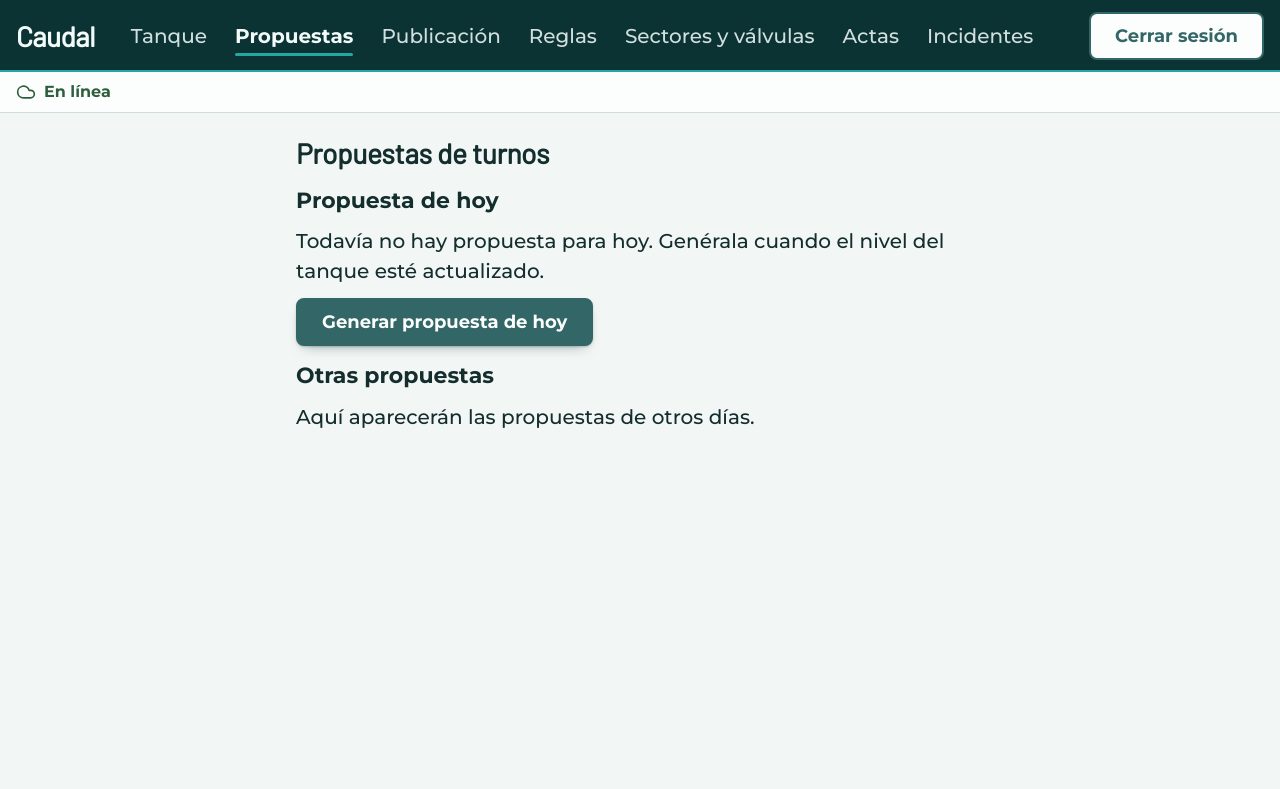
Scenario: proposal decision flow (F057) › rejects a proposal with a reason, and the day can be generated again
Click the button "Generar propuesta de hoy". click: (445, 322)
box: [296,298,593,346]
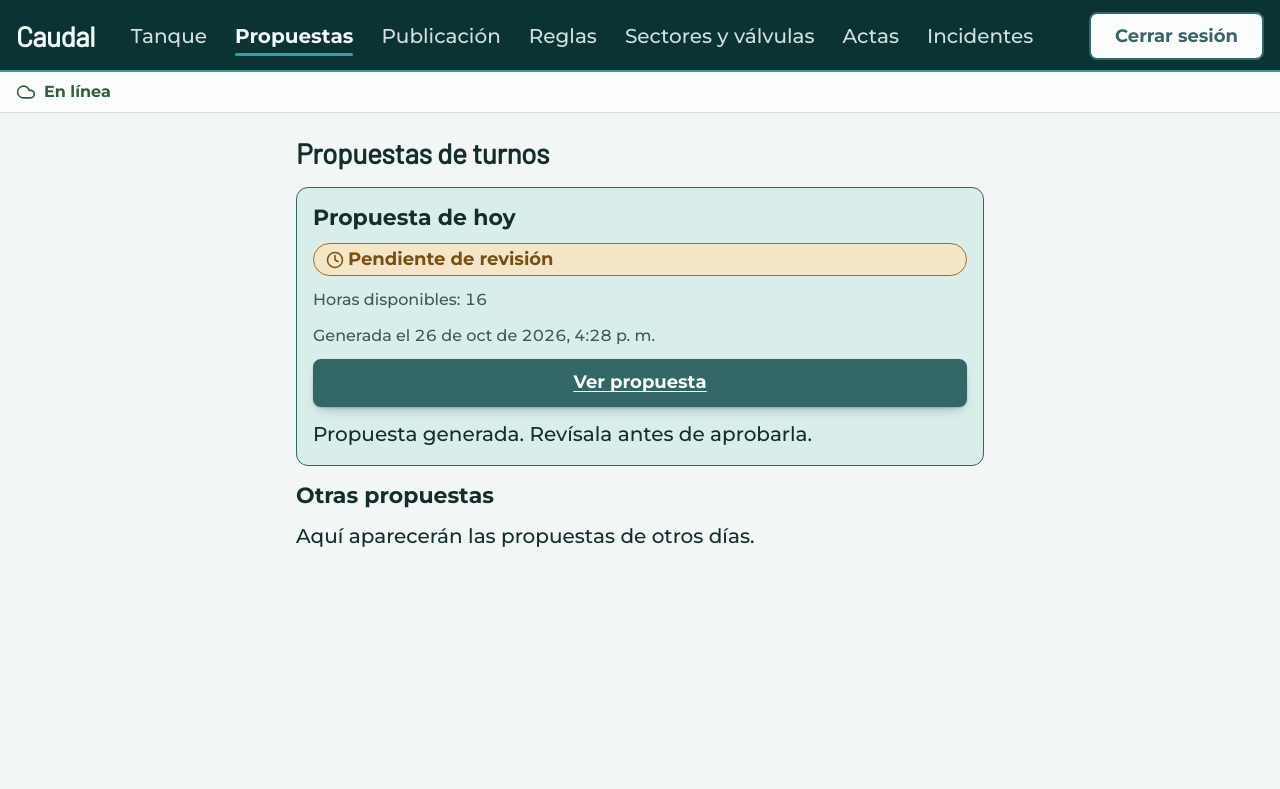
Click the link "Ver propuesta". click: (640, 383)
box: [313,359,967,407]
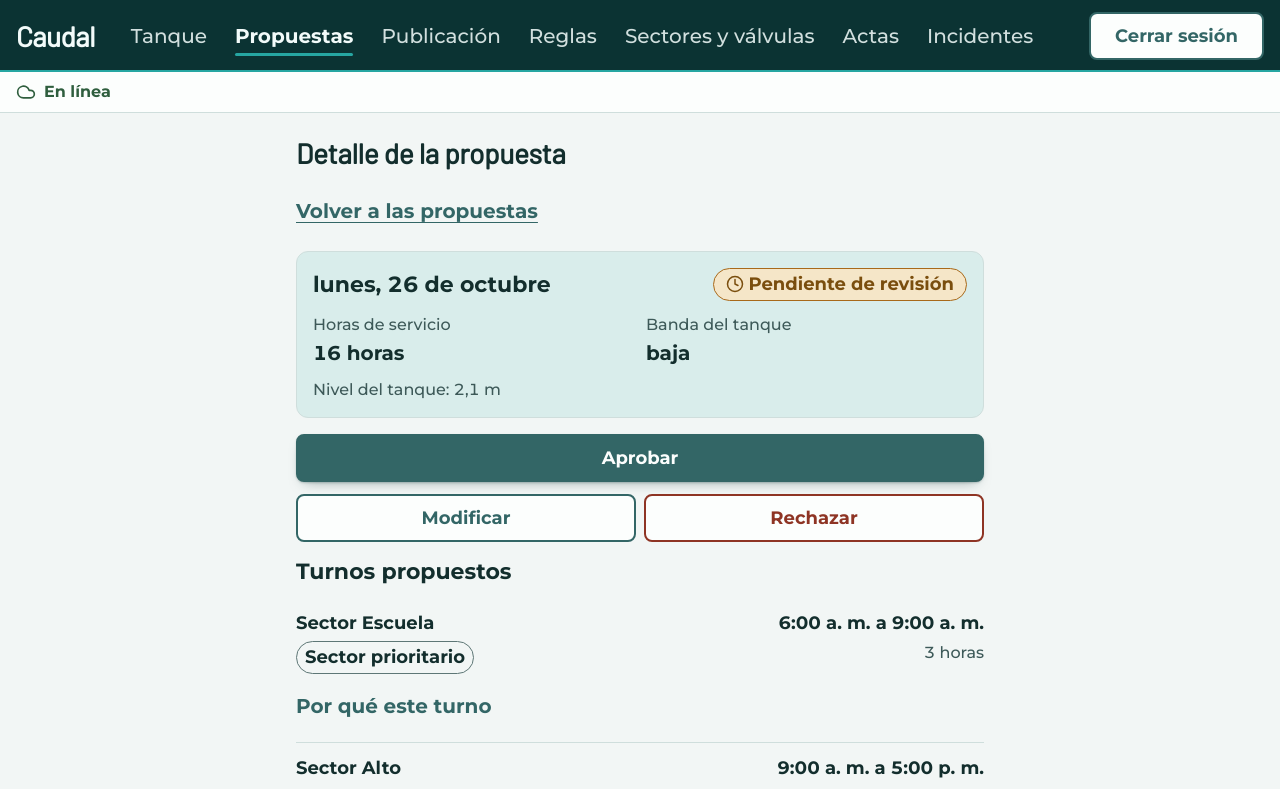
Click the button "Rechazar". click: (814, 518)
box: [644,494,984,542]
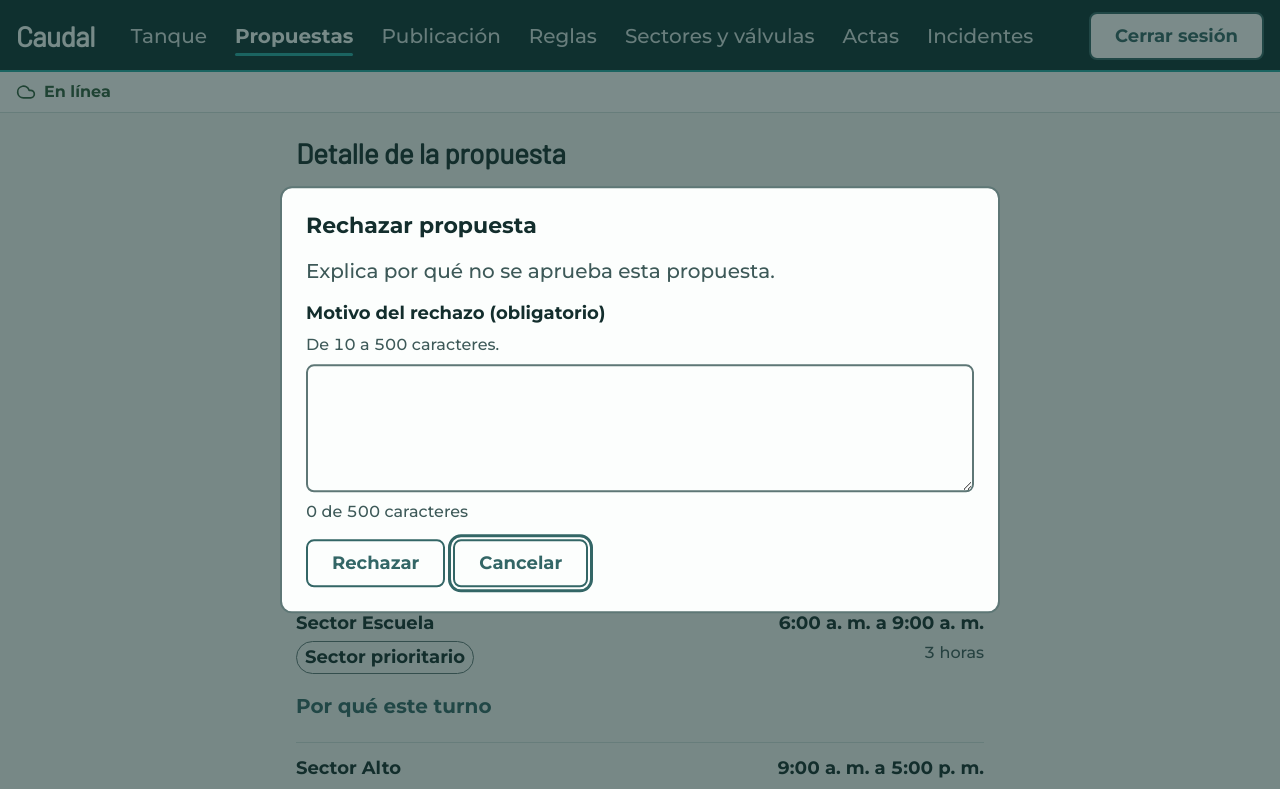
Type "Se pidió dejar una hora más al sector alto para la escuela." into the text box. click: (640, 428)
box: [306,364,974,492]
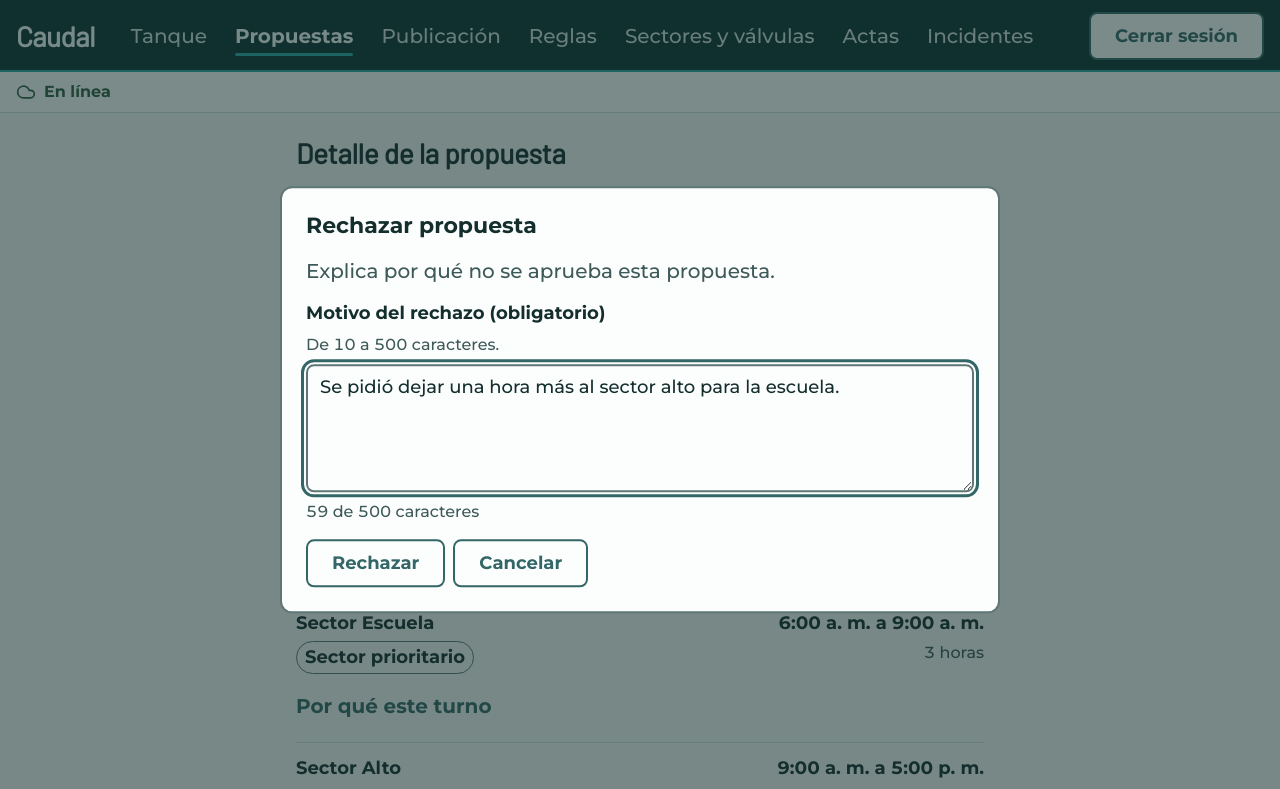
Click the button "Rechazar". click: (376, 564)
box: [306,540,445,588]
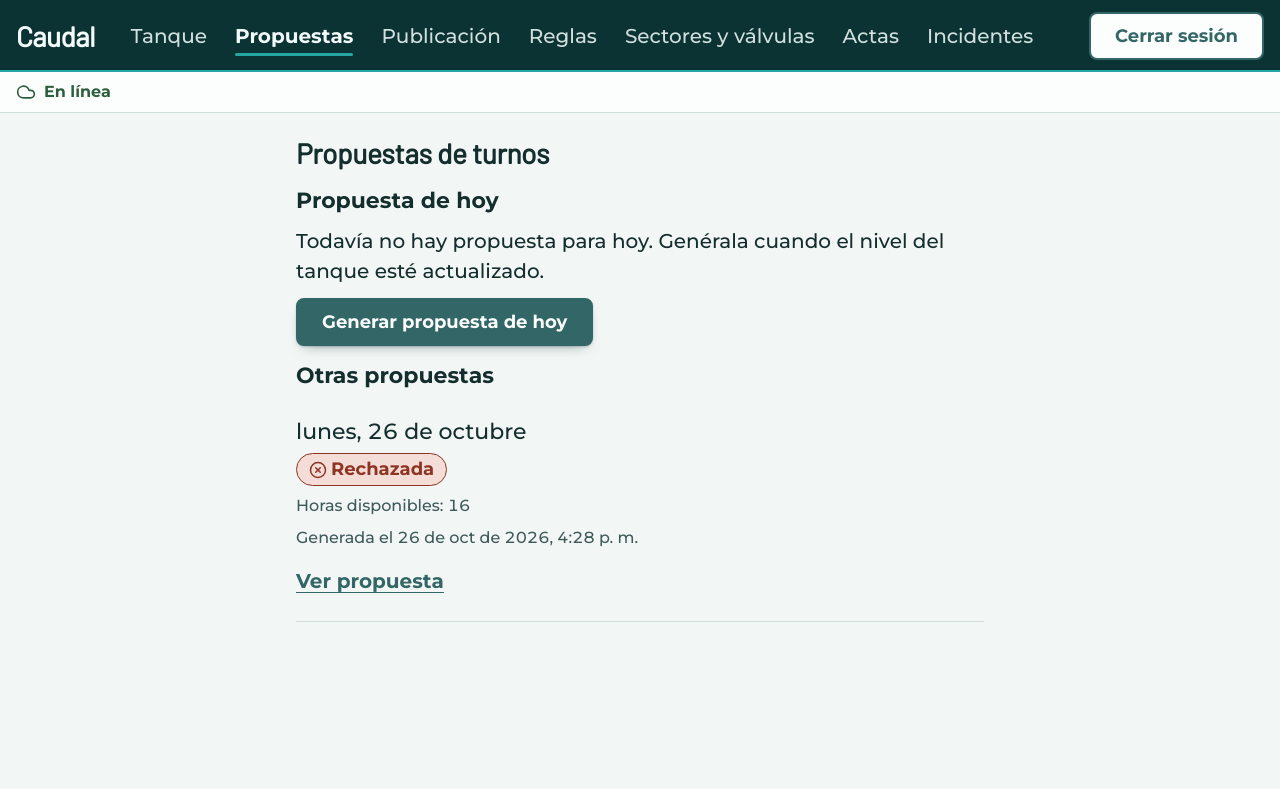
Result: the button "Generar propuesta de hoy" is shown at [296,298,593,346]
